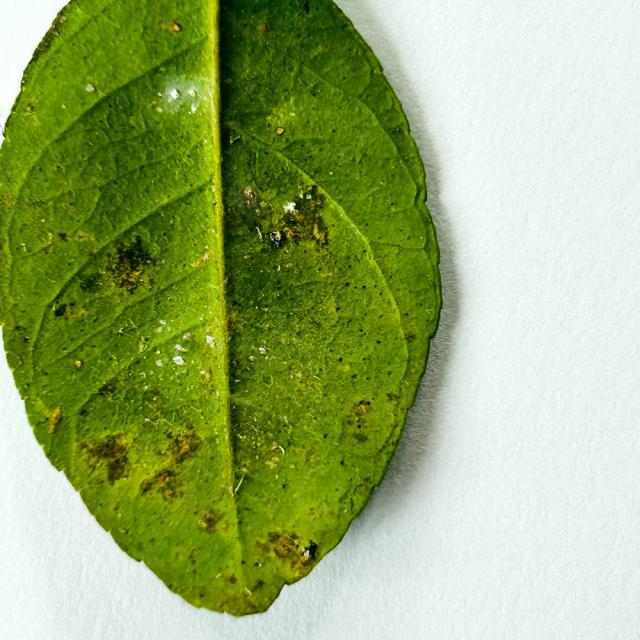Bacterial_Blight: (269, 189, 328, 248), (19, 223, 102, 264), (79, 434, 135, 488), (105, 237, 158, 293), (258, 530, 315, 574), (148, 469, 186, 503), (220, 584, 262, 614), (168, 429, 202, 464), (343, 400, 376, 434), (7, 323, 33, 363), (55, 300, 88, 322), (197, 510, 223, 534), (264, 443, 285, 467), (47, 407, 62, 434), (191, 250, 213, 267), (37, 229, 55, 247), (97, 382, 118, 397), (0, 191, 15, 212), (160, 20, 182, 34), (225, 312, 238, 335), (255, 541, 272, 555), (76, 231, 95, 243), (356, 402, 373, 415), (53, 303, 67, 318), (308, 506, 322, 520), (252, 579, 266, 592), (188, 549, 199, 565), (284, 227, 296, 240), (224, 574, 237, 585), (24, 104, 36, 115), (228, 134, 240, 145), (385, 392, 398, 402), (259, 23, 269, 36), (339, 363, 351, 373), (58, 232, 69, 242), (198, 518, 208, 529), (157, 475, 167, 485), (22, 335, 30, 343)
Lemon: (0, 0, 444, 620)
